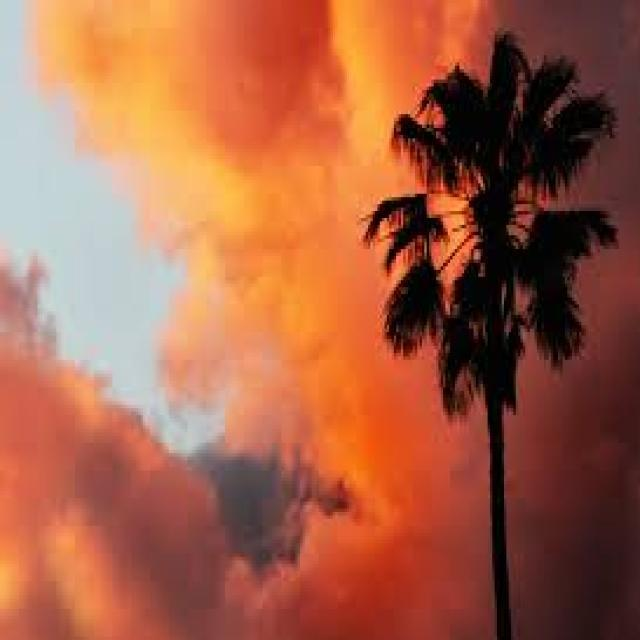Smoke: (5, 319, 435, 640), (120, 0, 402, 278), (511, 356, 640, 639), (43, 0, 136, 149)
